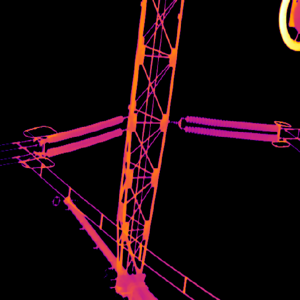insulator: (45, 113, 124, 155), (183, 113, 278, 143)
